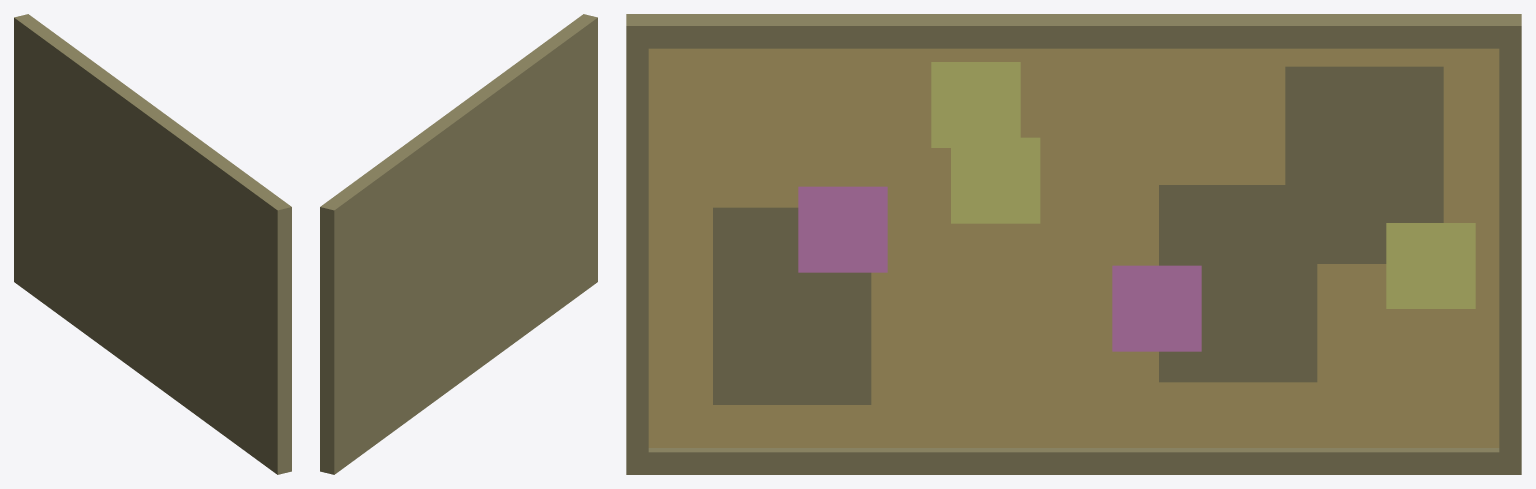
The model's file is corkboard.fbx.
3 renders of one model, left to right at view 1: azimuth 30°, elevation 25°; view 2: azimuth 150°, elevation 25°; view 3: azimuth 270°, elevation 25°, orthographic. The views are drawn at different scales.
Visible parts, largest first — view 1: CorkBoard; view 2: CorkBoard; view 3: CorkBoard.
Boxes of the visible parts, box(x1,y1,x2,y2) form: CorkBoard: box(14, 14, 291, 474); CorkBoard: box(320, 14, 597, 474); CorkBoard: box(626, 14, 1521, 474).
Bounding box in the file's own units: 15.72 × 277 × 500.
